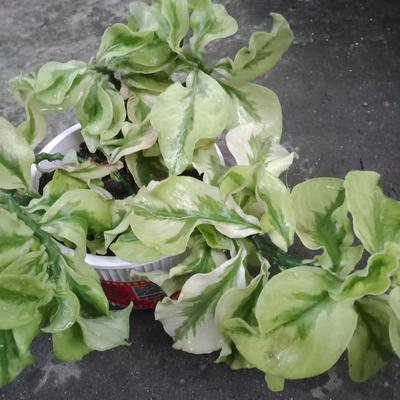Pothos plant: (19, 23, 359, 337)
